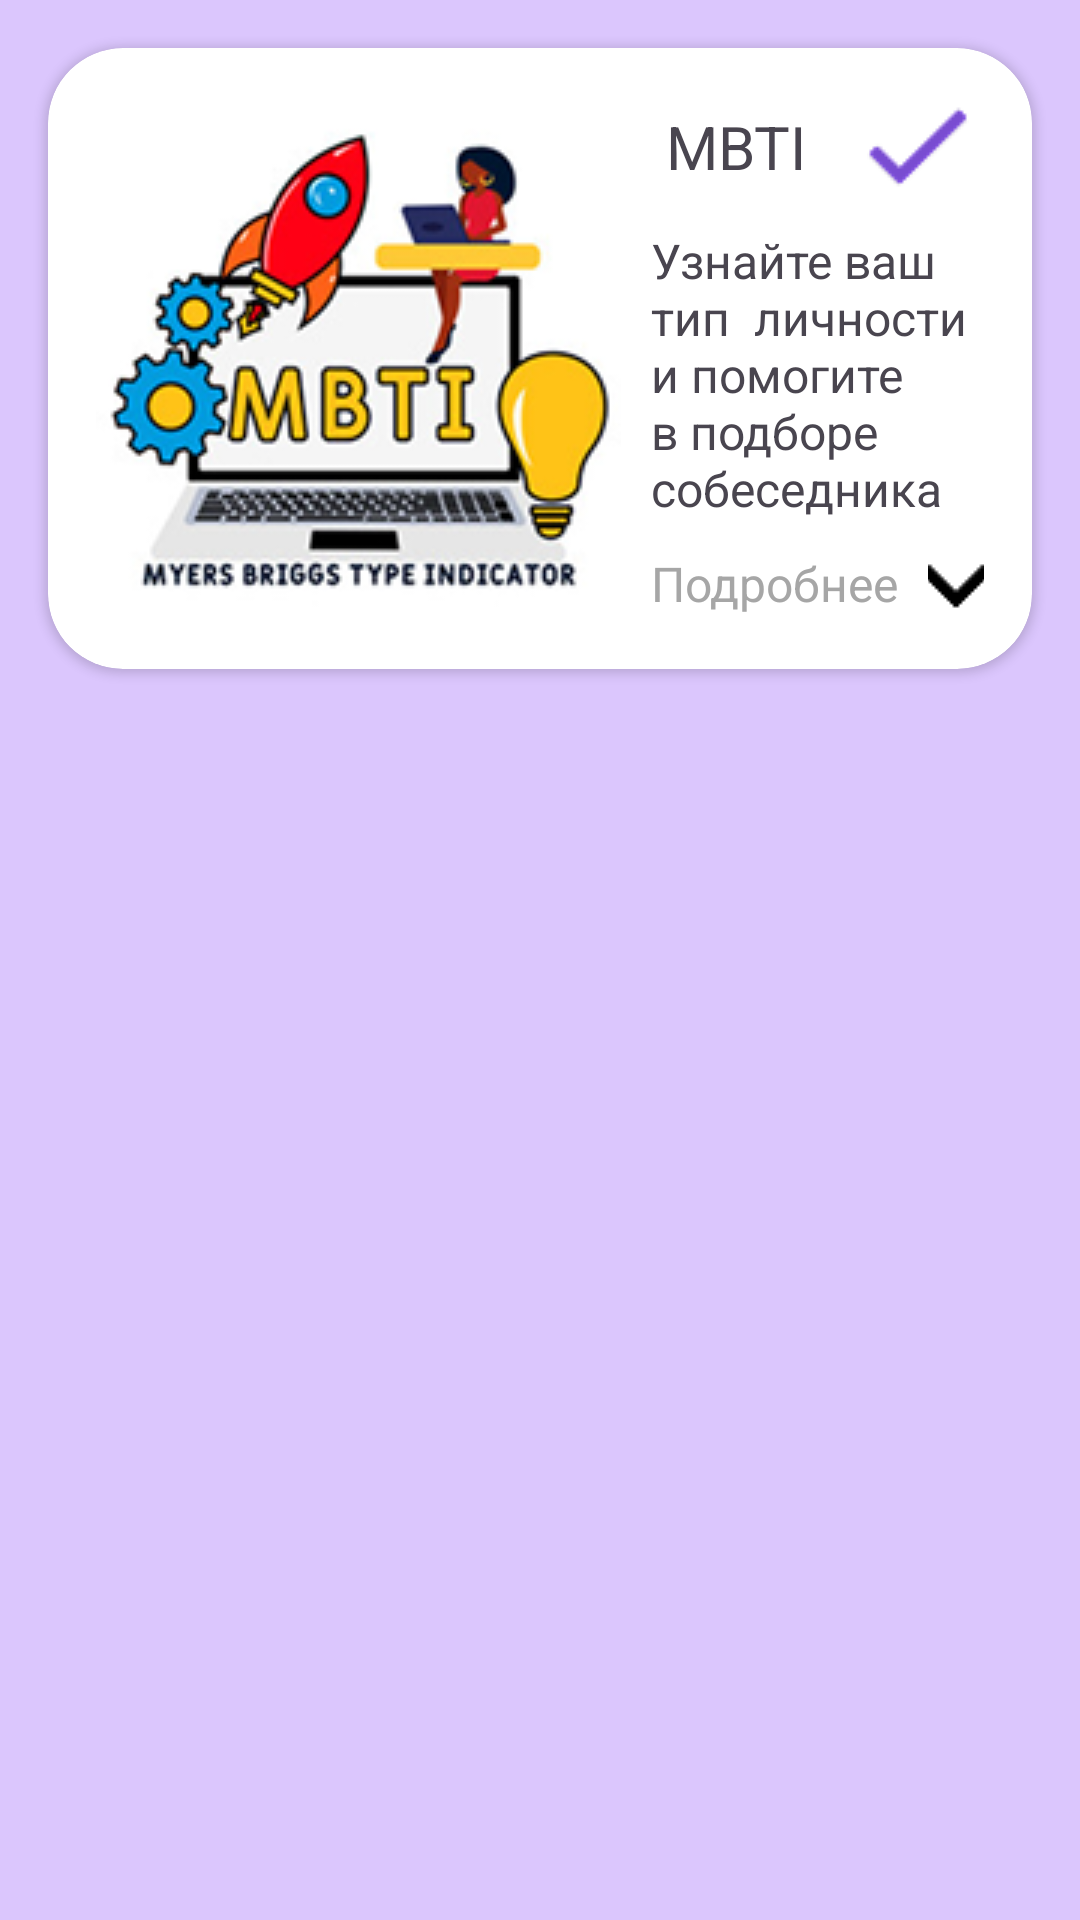

Screen size 1080*1920. Icon name, then its center in pixels as (x=x, y=y):
more: (x=956, y=586)
read: (x=918, y=146)
